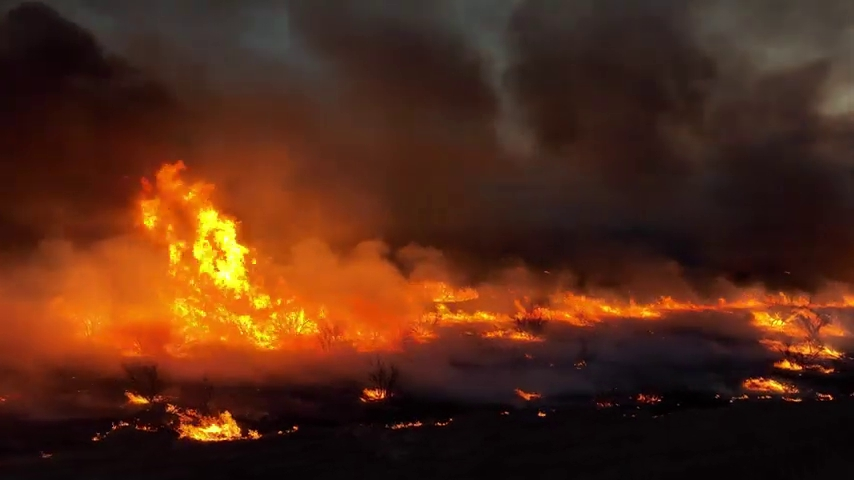forest_fire: (140, 162, 396, 351), (398, 282, 841, 373), (167, 404, 259, 441), (741, 377, 799, 400), (361, 388, 386, 402)
